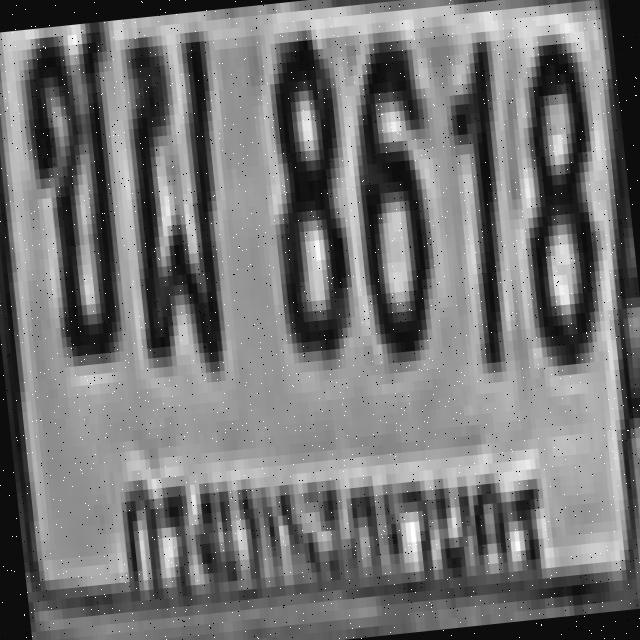1: (438, 32, 519, 364)
19ChorChang: (14, 21, 138, 358)
37PhorPhueng: (111, 21, 235, 368)
6: (338, 19, 442, 355)
8: (498, 22, 608, 358), (249, 18, 358, 354)
Bangkok: (101, 401, 556, 639)
